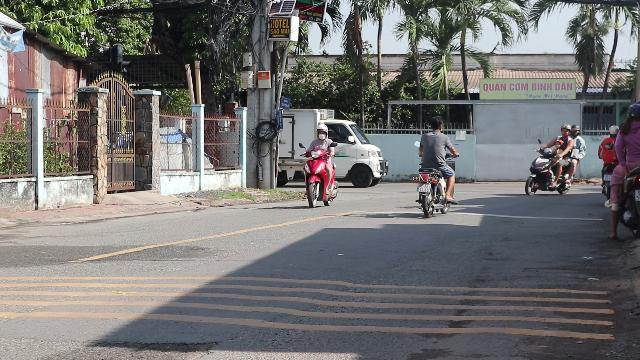helmet: (598, 98, 640, 246), (316, 124, 328, 139)
licenseplate: (416, 184, 429, 192)
motorcyclist: (413, 115, 457, 217), (300, 124, 340, 208), (624, 102, 640, 122)
nohelmet: (426, 116, 442, 132)
